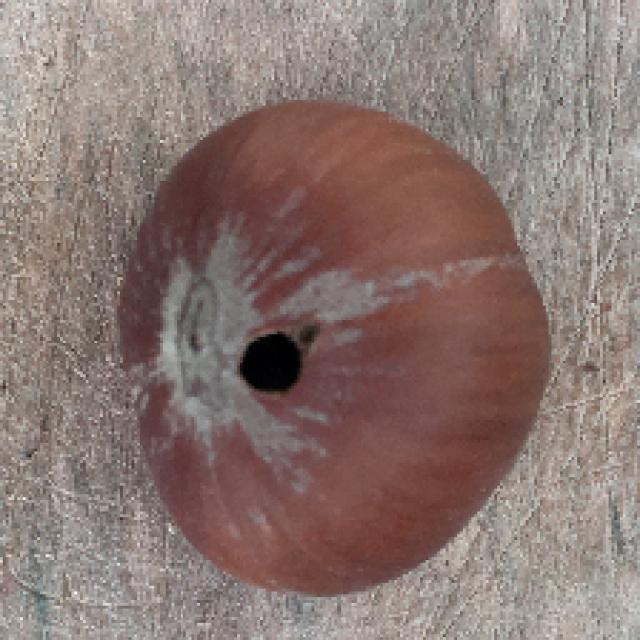DamagedHazelnut: (116, 96, 553, 595)
